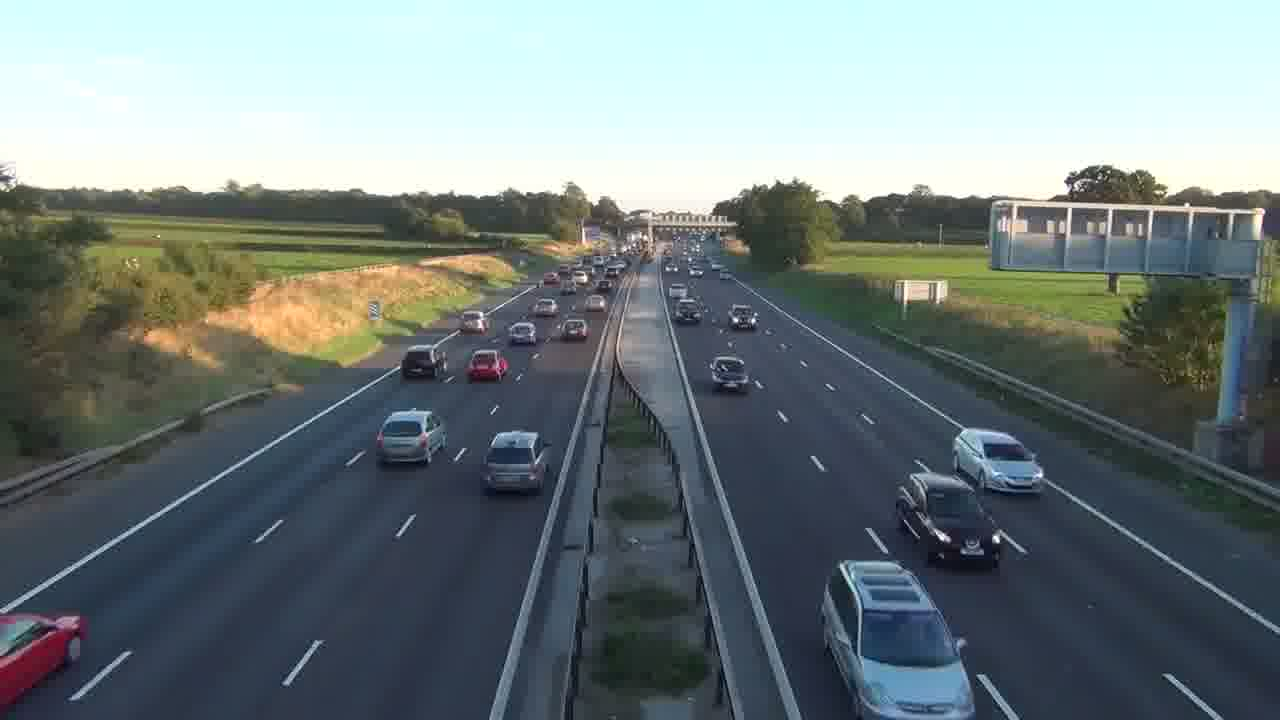car: (818, 559, 976, 718), (893, 468, 1003, 570), (952, 427, 1045, 495), (480, 430, 551, 495), (374, 408, 448, 465), (708, 354, 749, 392), (465, 349, 510, 382), (400, 345, 436, 379), (507, 320, 537, 346), (559, 317, 590, 342)
